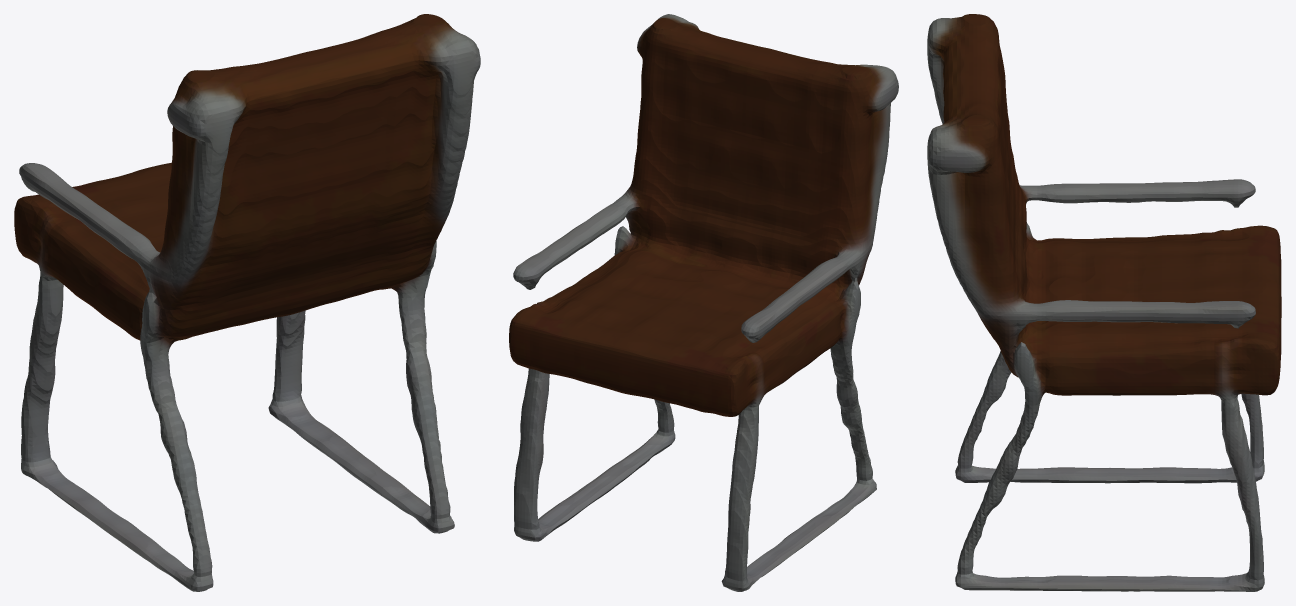
File: chair.glb
3 renders of one model, left to right at view 1: azimuth 30°, elevation 25°; view 2: azimuth 150°, elevation 25°; view 3: azimuth 270°, elevation 25°, orthographic. The views are drawn at different scales.
Parts seen in each view (by area): view 1: tmpyf_j7dve.ply; view 2: tmpyf_j7dve.ply; view 3: tmpyf_j7dve.ply.
Part boxes in pixels (x1,y1,x2,y2): tmpyf_j7dve.ply: [14, 14, 480, 591]; tmpyf_j7dve.ply: [509, 14, 898, 591]; tmpyf_j7dve.ply: [927, 14, 1281, 591].
Bounding box in the file's own units: 1.19 × 1.98 × 1.37.
